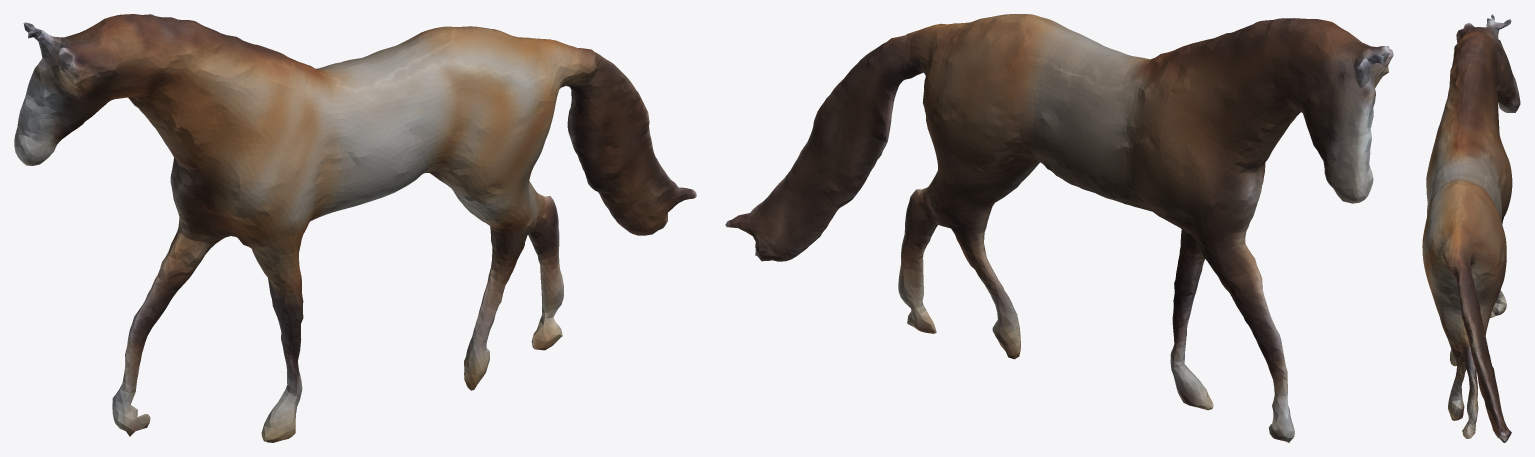
Rendered from horse.glb.
3 renders of one model, left to right at view 1: azimuth 30°, elevation 25°; view 2: azimuth 150°, elevation 25°; view 3: azimuth 270°, elevation 25°, orthographic. The views are drawn at different scales.
Visible parts, largest first — view 1: Mesh_0.016; view 2: Mesh_0.016; view 3: Mesh_0.016.
Part boxes in pixels (x1,y1,x2,y2): Mesh_0.016: (14,14,696,442); Mesh_0.016: (725,14,1393,442); Mesh_0.016: (1422,14,1520,442).
Size of the model in its own units: 1.1 by 0.6949 by 0.2173.
1 material, 1 textured.
